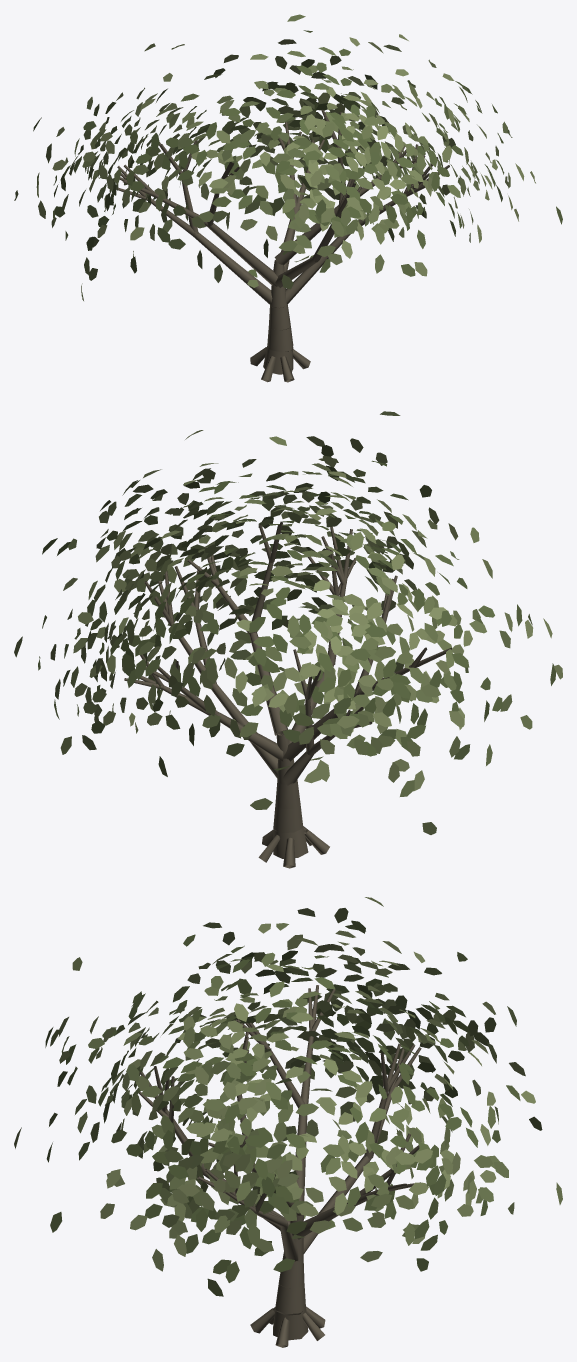
The model's file is olive_0.glb.
3 renders of one model, top to bottom at view 1: azimuth 30°, elevation 25°; view 2: azimuth 150°, elevation 25°; view 3: azimuth 270°, elevation 25°, orthographic. The views are drawn at different scales.
Visible parts, largest first — view 1: olive_0_LOD0; view 2: olive_0_LOD0; view 3: olive_0_LOD0.
Boxes of the visible parts, box(x1,y1,x2,y2) form: olive_0_LOD0: box(14, 14, 562, 382); olive_0_LOD0: box(14, 411, 562, 868); olive_0_LOD0: box(14, 897, 562, 1347).
Size of what is drawn, in the model's own units: 2.33 by 1.75 by 2.07.
